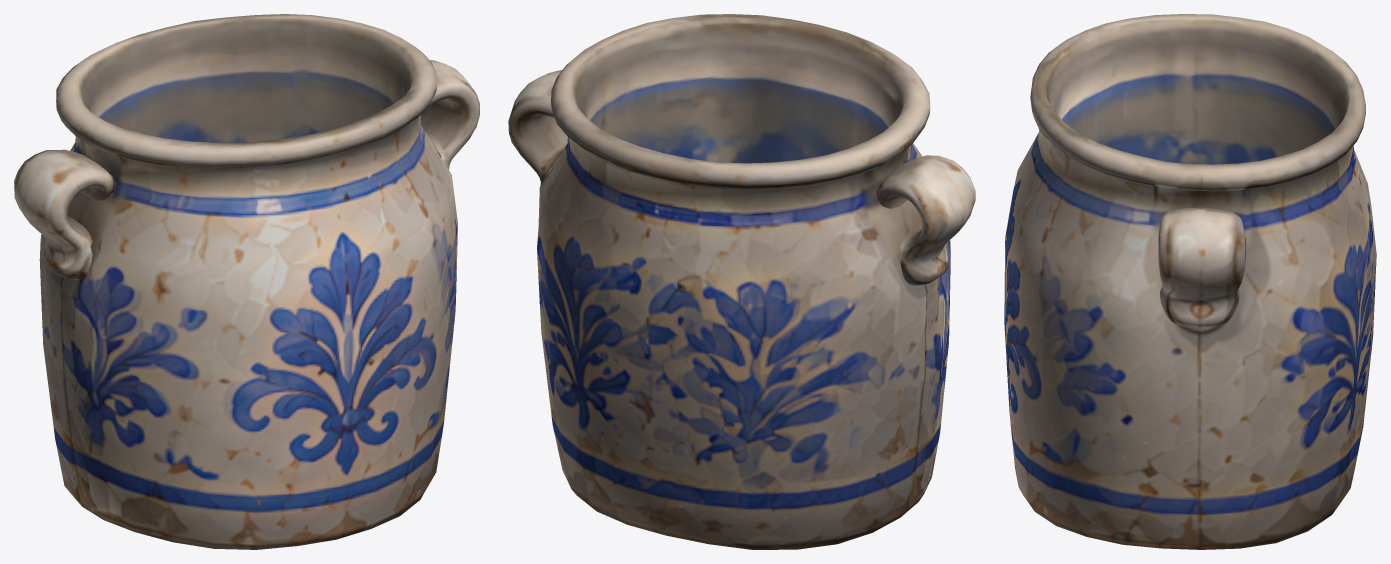
The model's file is porcelain_jar.fbx.
3 renders of one model, left to right at view 1: azimuth 30°, elevation 25°; view 2: azimuth 150°, elevation 25°; view 3: azimuth 270°, elevation 25°, orthographic.
Visible parts, largest first — view 1: porcelain_jar; view 2: porcelain_jar; view 3: porcelain_jar.
Part boxes in pixels (x1,y1,x2,y2): porcelain_jar: (14, 14, 479, 549); porcelain_jar: (508, 14, 975, 549); porcelain_jar: (1004, 14, 1376, 549).
Size of the model in its own units: 27.69 by 24.17 by 20.31.
Materials: 1 (1 with a texture image).
